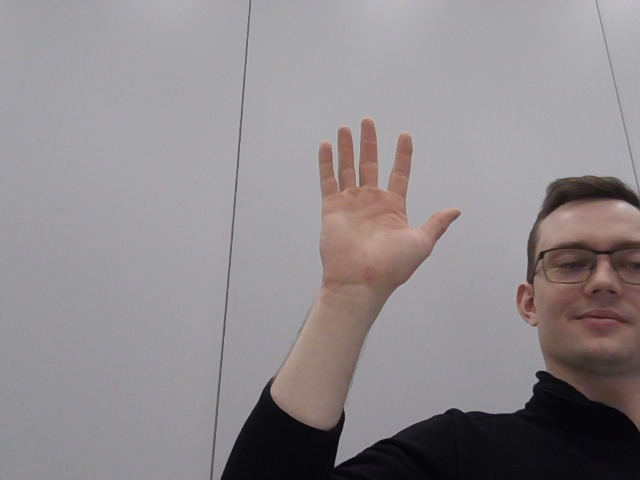nada: (295, 109, 472, 323)
